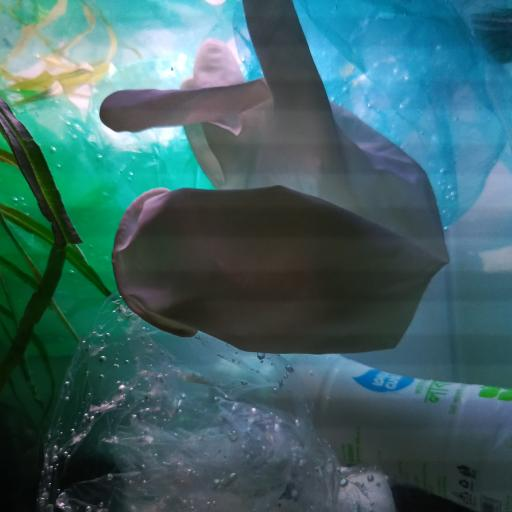bottle_cap: (474, 18, 512, 60)
glove: (100, 0, 452, 355)
plastic_bag: (38, 288, 394, 512), (210, 0, 503, 232), (0, 57, 194, 395)
plastic_bottle: (225, 352, 512, 512)
plastic_cup: (454, 0, 512, 144)
